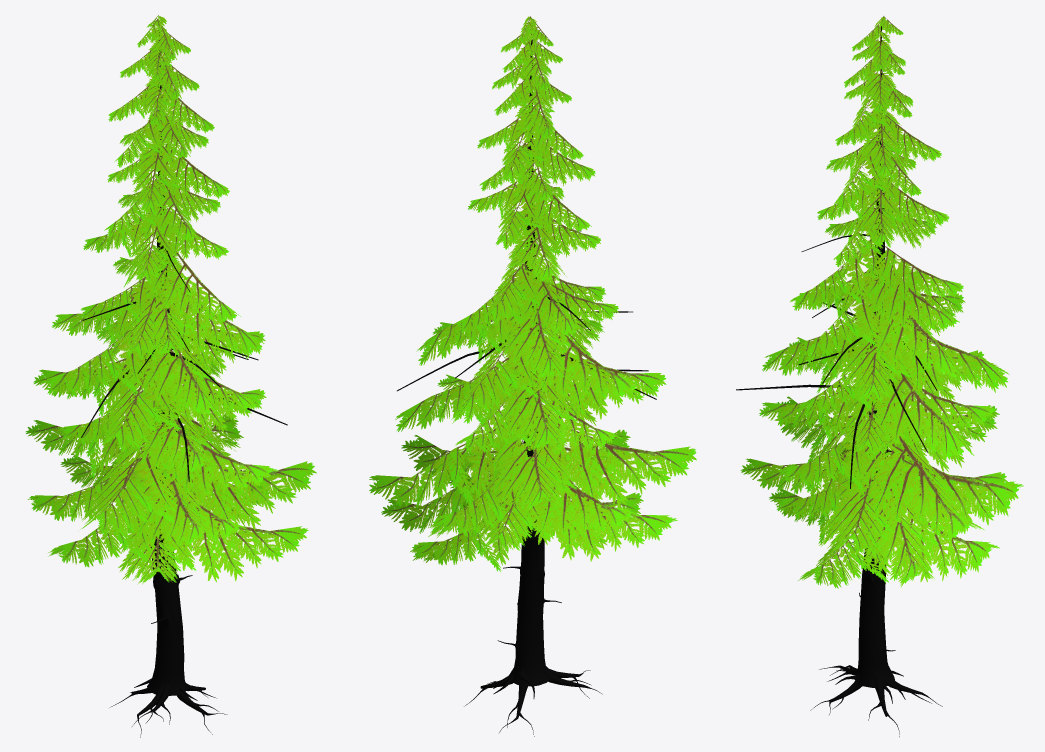
File: Spruce_Tree_V2.fbx
3 renders of one model, left to right at view 1: azimuth 30°, elevation 25°; view 2: azimuth 150°, elevation 25°; view 3: azimuth 270°, elevation 25°, orthographic.
Parts seen in each view (by area): view 1: Spruce_Tree_V2_LOD0; view 2: Spruce_Tree_V2_LOD0; view 3: Spruce_Tree_V2_LOD0.
Part boxes in pixels (x1,y1,x2,y2): Spruce_Tree_V2_LOD0: (25, 15, 316, 737); Spruce_Tree_V2_LOD0: (369, 16, 696, 736); Spruce_Tree_V2_LOD0: (736, 16, 1023, 736).
Size of what is drawn, in the model's own units: 462 by 1083 by 419.
